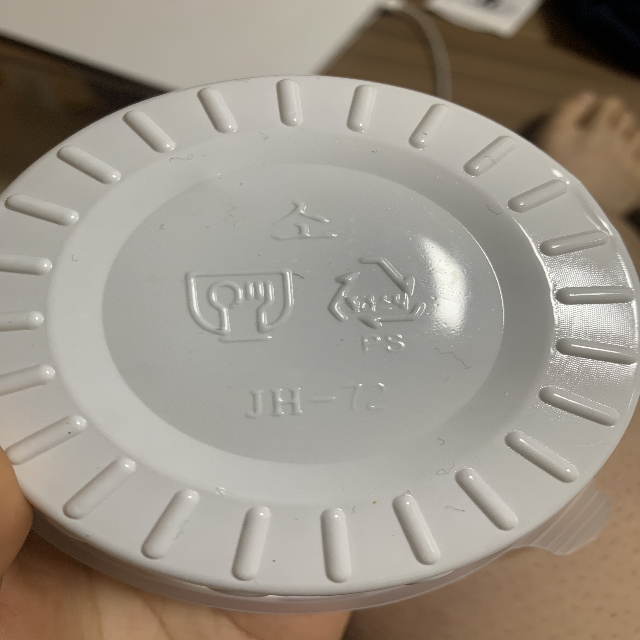ps: (324, 247, 433, 358)
